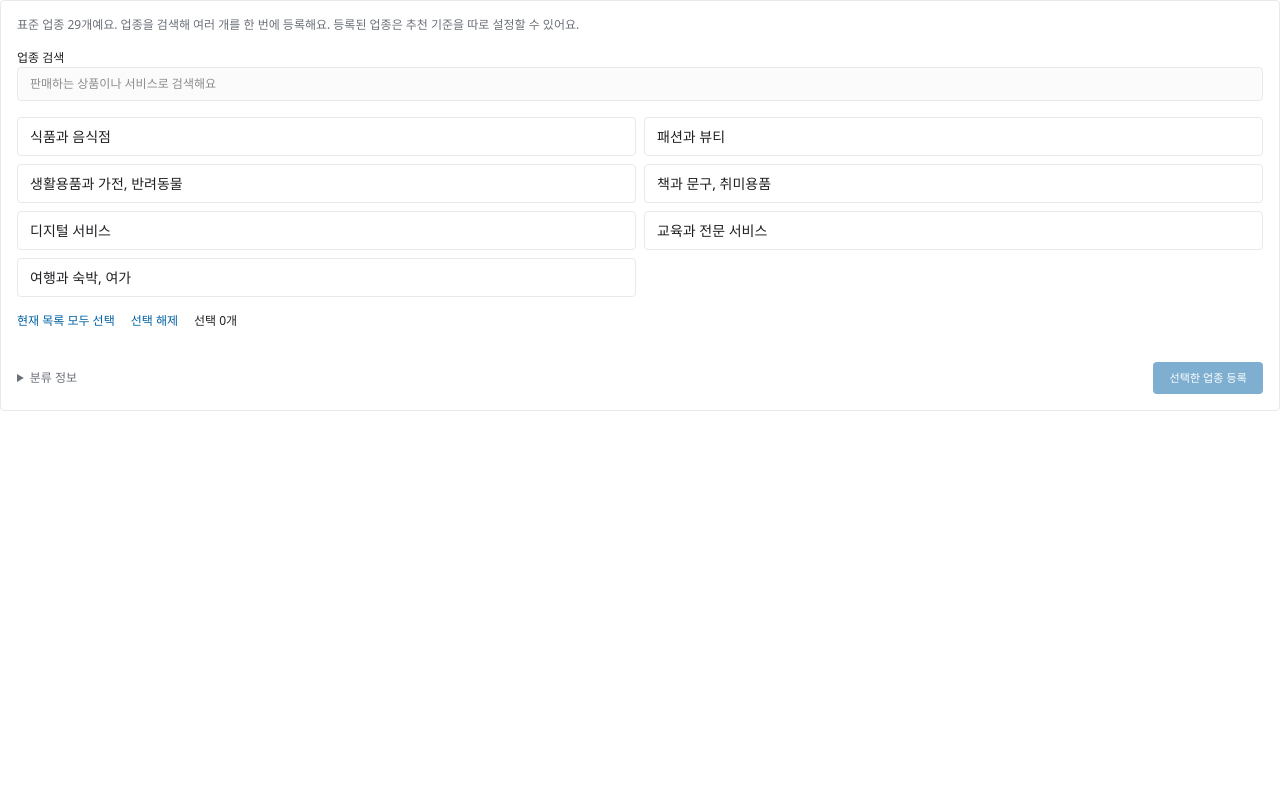
등록된 코드와 기존 저장 이름 모두 중복 선택을 막는다
Click the button "패션과 뷰티".
click(691, 137)  # box [644,117,1263,156]
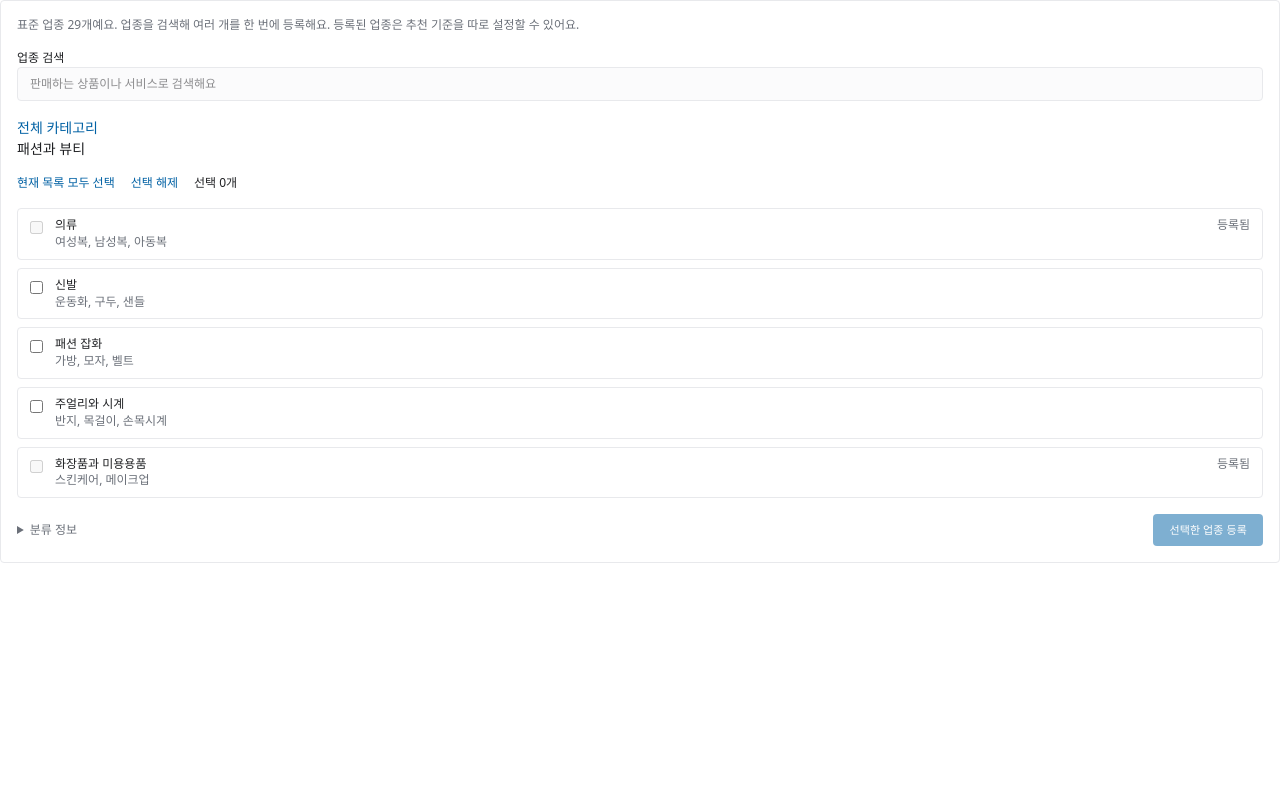
Result: the checkbox labelled "의류 여성복, 남성복, 아동복 등록됨" is disabled at [30,221,43,234]
Result: the checkbox labelled "화장품과 미용용품 스킨케어, 메이크업 등록됨" is disabled at [30,460,43,473]
